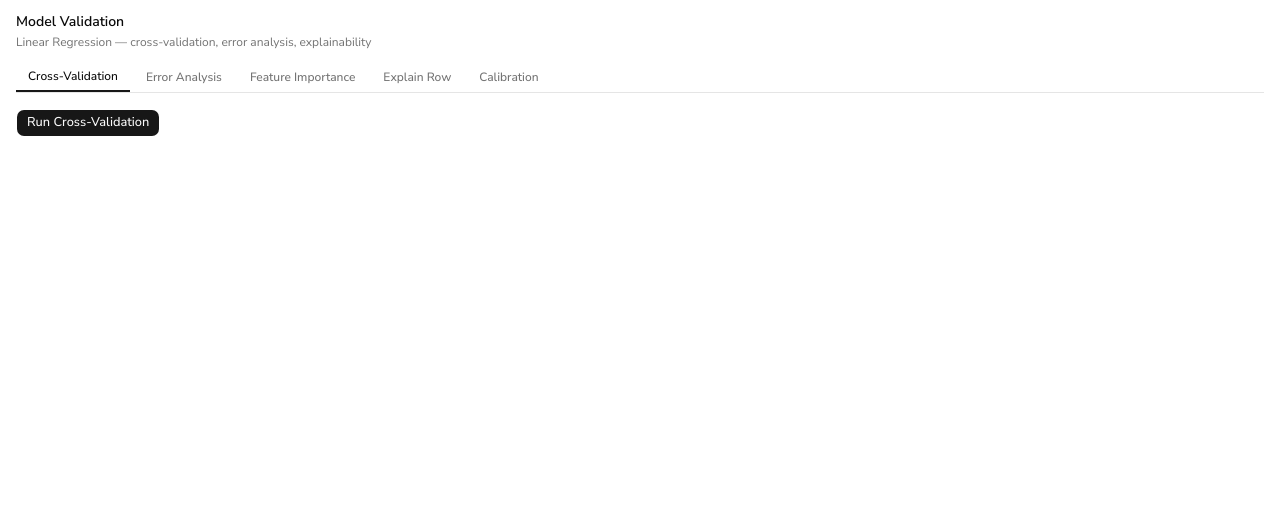
Scenario: ValidationPanel — confidence badge › shows limitation text
Click the tab "Cross-Validation": (73, 77) x1=16 y1=62 x2=130 y2=92
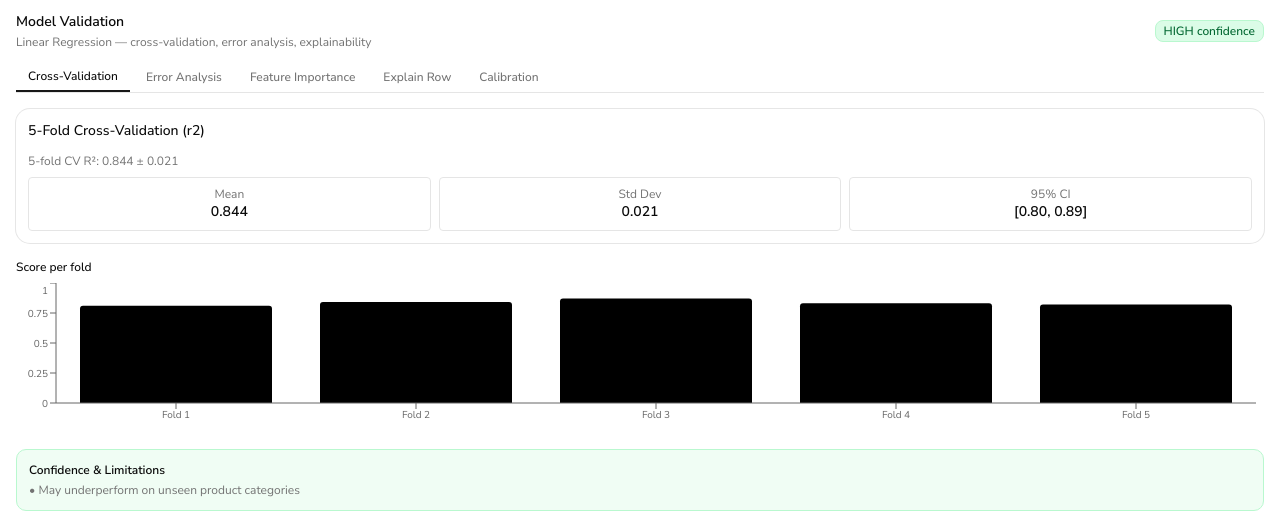
Check: the list item "• May underperform on unseen product categories" is shown, box x1=29 y1=482 x2=300 y2=498
